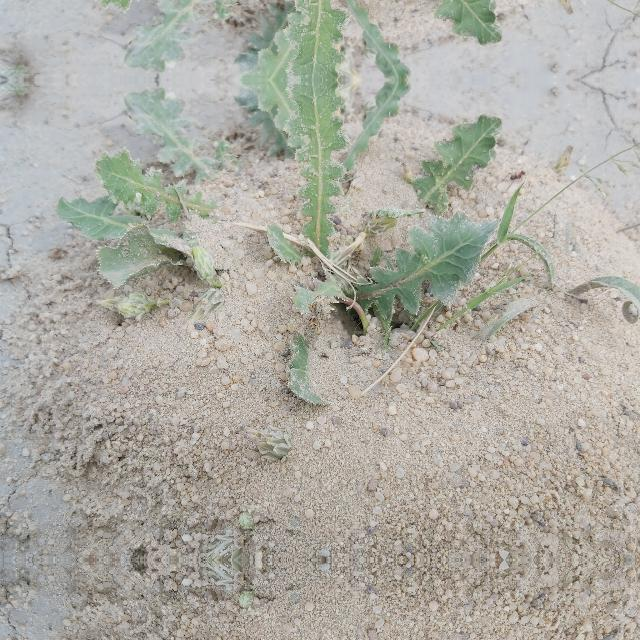Cataglyphis: (508, 168, 528, 180)
